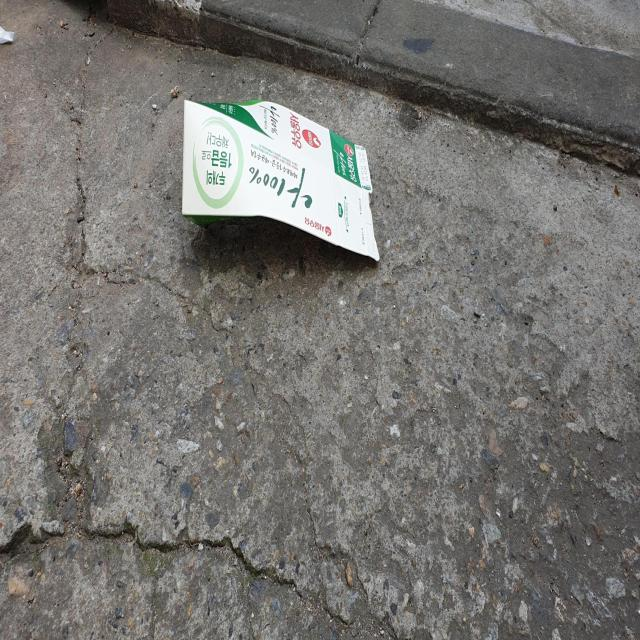paperpack: (182, 99, 380, 259)
